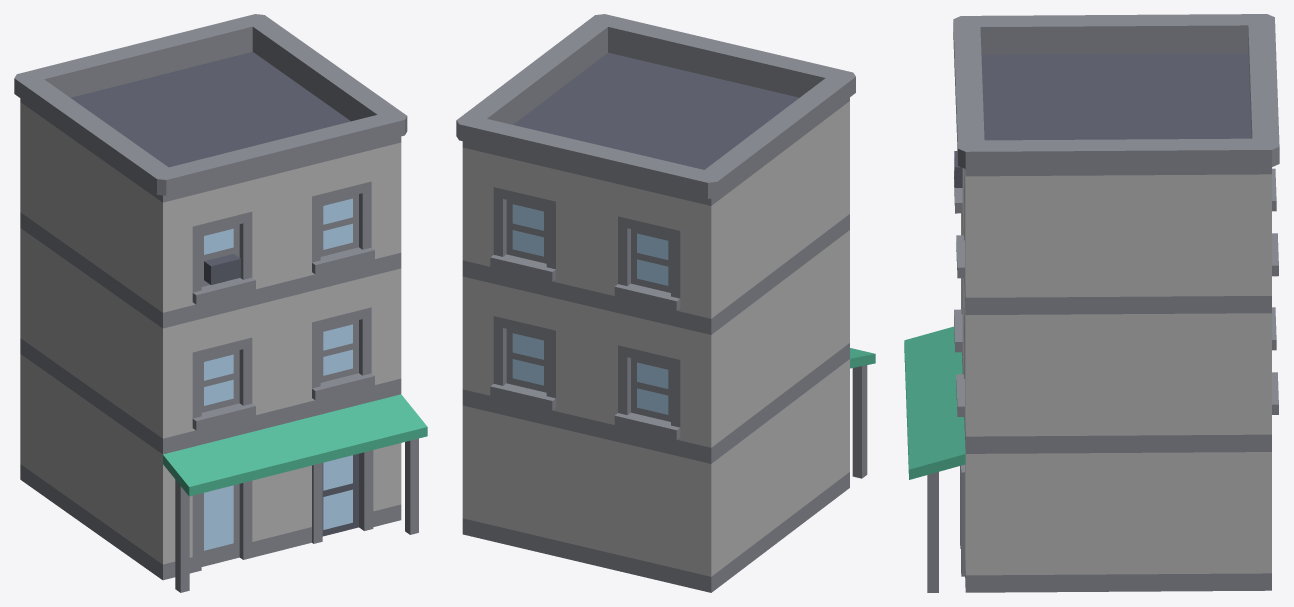
File: small_buildingd_lev3.glb
3 views of the same model, side by side, from view 1: azimuth 30°, elevation 25°; view 2: azimuth 150°, elevation 25°; view 3: azimuth 270°, elevation 25° (orthographic). The views are drawn at different scales.
Parts seen in each view (by area): view 1: small_buildingd_lev3; view 2: small_buildingd_lev3; view 3: small_buildingd_lev3.
Part boxes in pixels (left/top/right/bottom): small_buildingd_lev3: left=14, top=14, right=427, bottom=592; small_buildingd_lev3: left=456, top=14, right=875, bottom=592; small_buildingd_lev3: left=904, top=14, right=1279, bottom=592.
Bounding box in the file's own units: 6.98 × 10.49 × 8.03.
